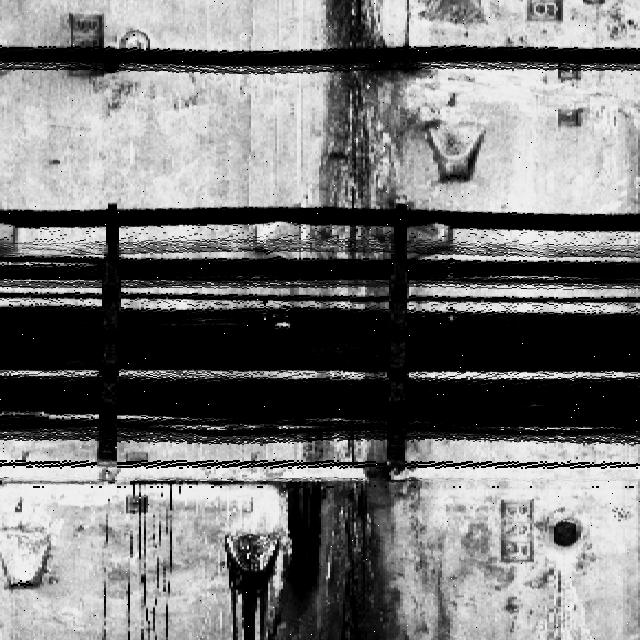leakage: (231, 445, 458, 640), (310, 1, 430, 262)
